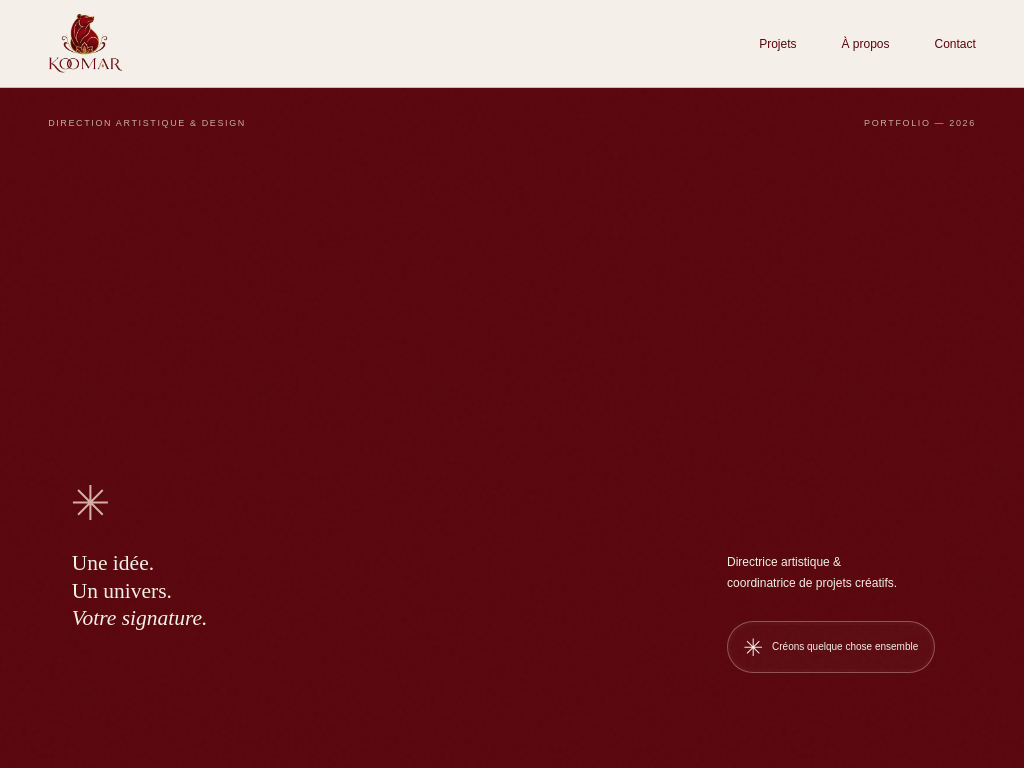
Test case: Portfolio de Laxshmee Koomar › ouvre le formulaire depuis le bouton de contact
The width and height of the screenshot is (1024, 768).
What coordinates should you click on to do the following:
click the button "Contact"
I would click on:
 (955, 44)
Its box is [934,26,976,60].
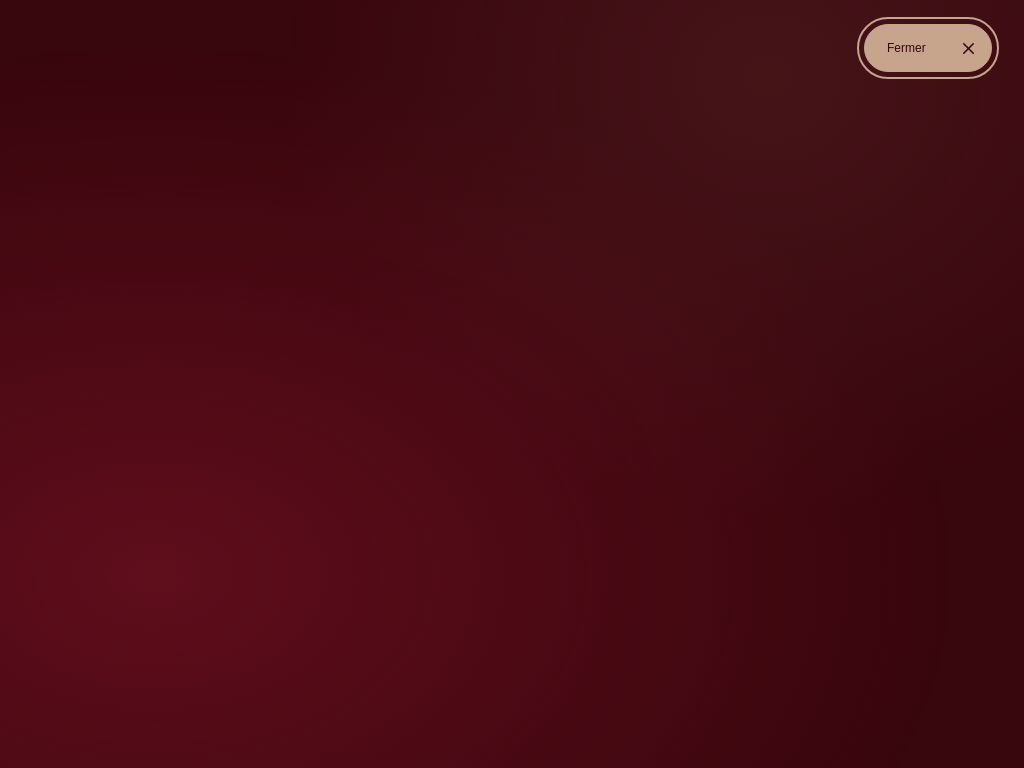
Expected: the dialog is shown
What coordinates should you click on to do the following:
click the button with aria-label "Fermer le formulaire"
I would click on:
 (928, 48)
Its box is [864,24,992,72].
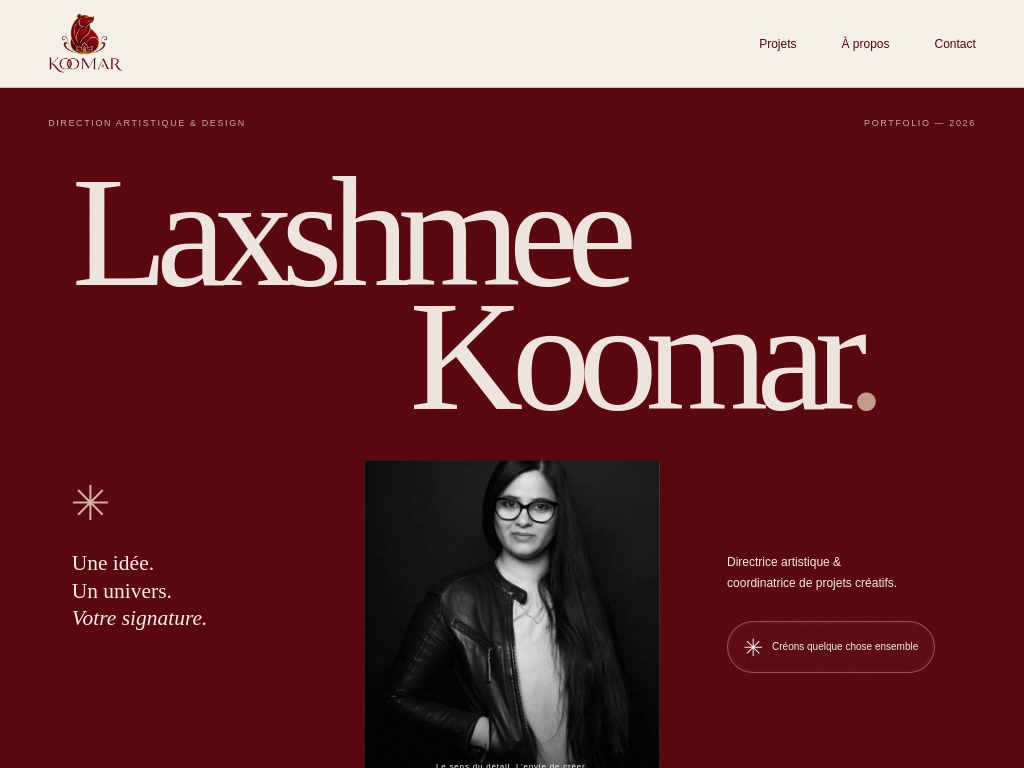
Expected: the dialog is gone
